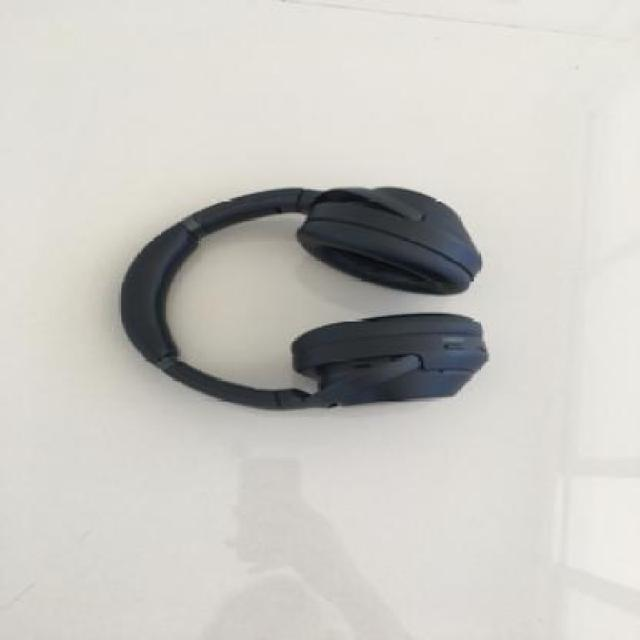earphone: (63, 119, 620, 488)
